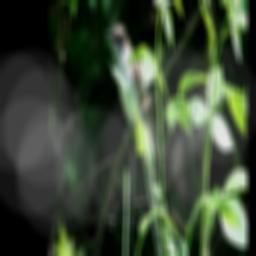Cuckoo: (102, 23, 165, 256)
